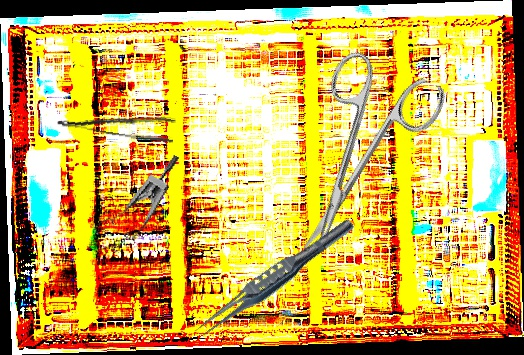Dressing Forceps: (56, 100, 177, 145)
Iris Scissors: (255, 41, 451, 276)
Speculum: (88, 137, 181, 262)
Tissue Forceps: (191, 210, 358, 346)
